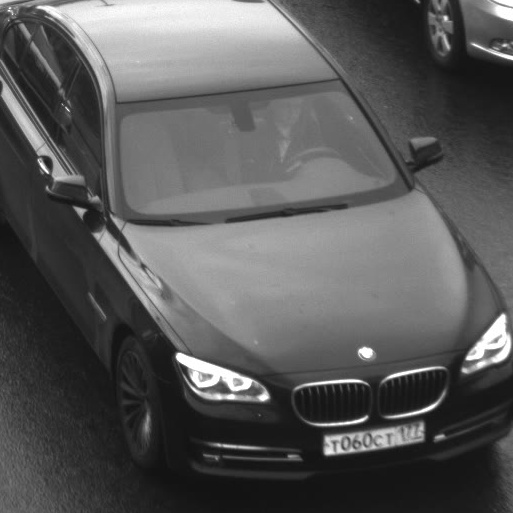plate: (312, 409, 434, 461)
